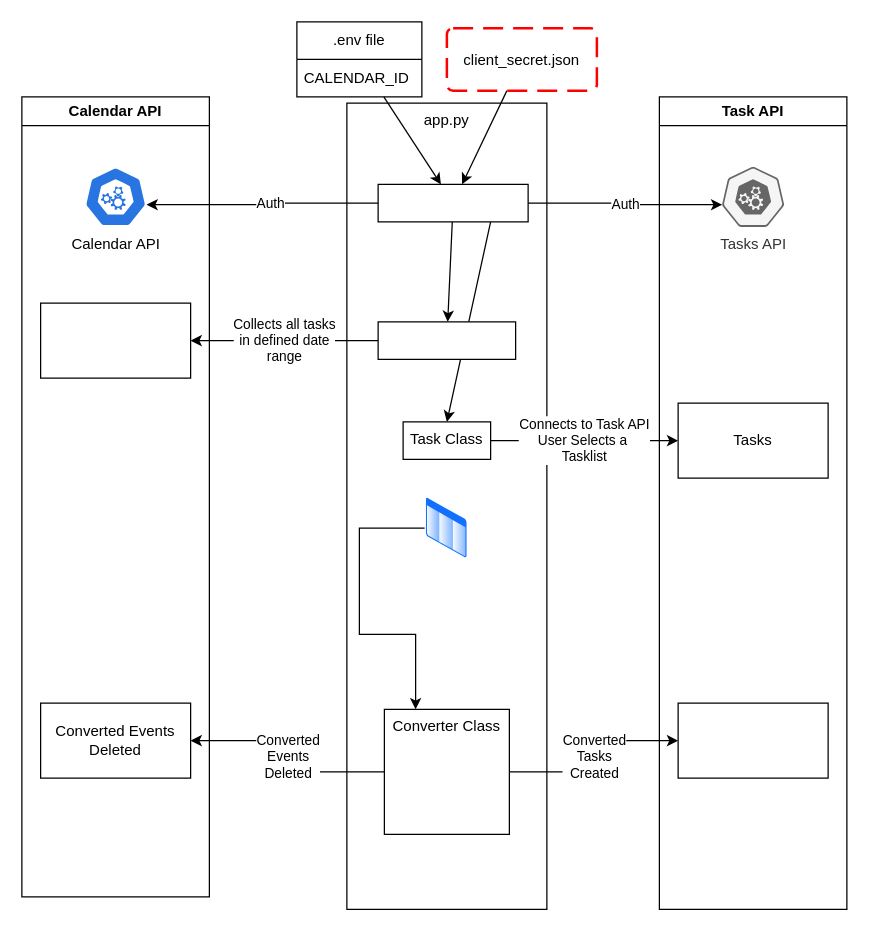
Image size: 869x931. Some labels were removed from this diagram. The centre of each missing label's shape, as x and y in pixels:
"Authentication Class" belongs at point (452, 202).
"Calendar Class" belongs at point (446, 340).
"Events" belongs at point (115, 340).
"User Defined list of events to convert to task" belongs at point (446, 527).
"User Defined Tasklist" belongs at point (752, 740).
